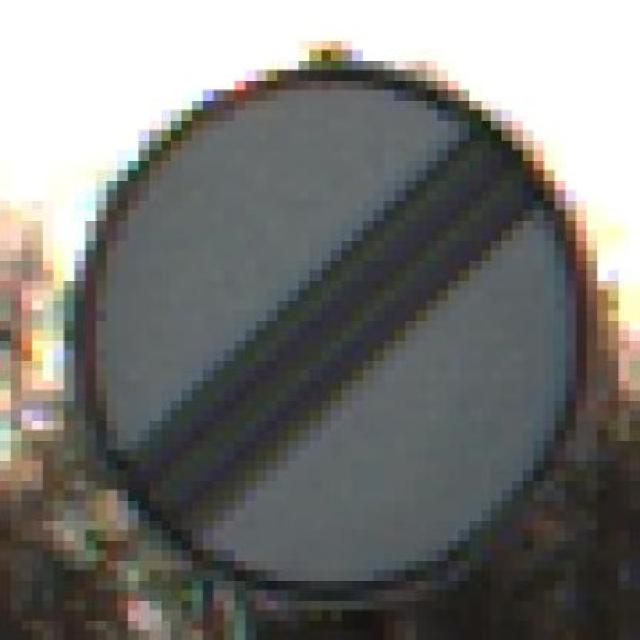End of all speed and passing limits: (52, 54, 596, 594)
